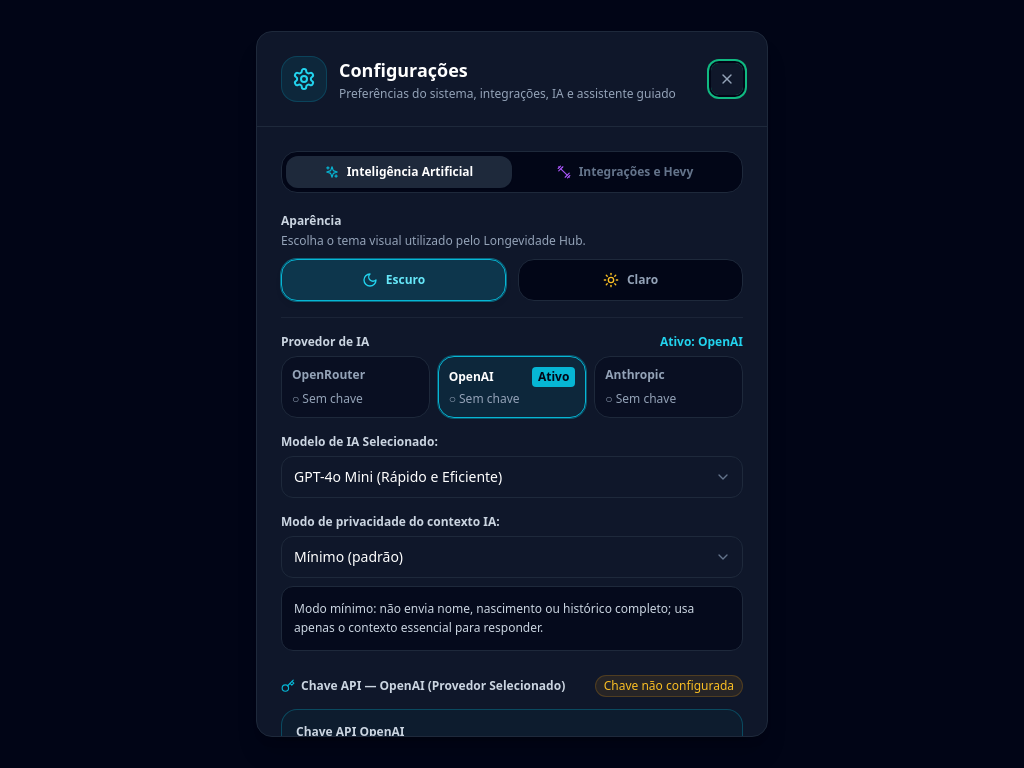
AISettingsModal privacy and key-vault settings › defaults to minimal privacy and warns when the full context mode is selected
Expected: the text "não envia nome, nascimento ou histórico completo" is shown, [294,600,694,636]
Select "Completo (opcional)" in the dropdown labelled "Modo de privacidade do contexto IA:" at (512, 557), box [281,536,743,578]
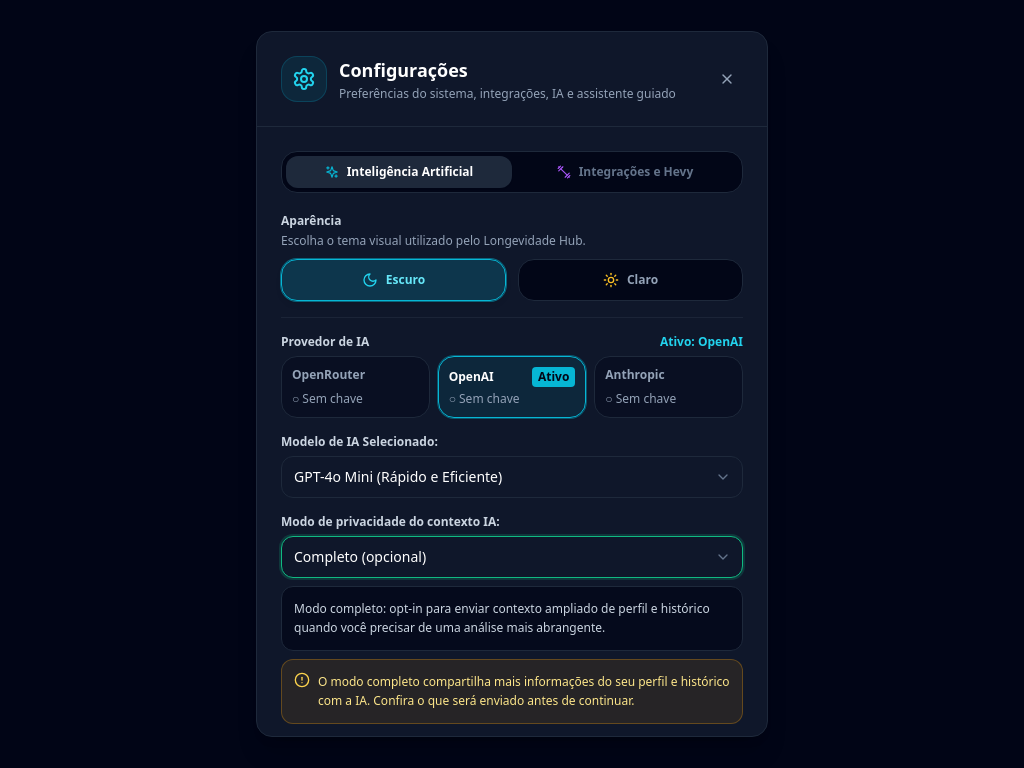
Now the message shows "modo completo", box [318,673,730,709]
Now the message shows "confira o que será enviado antes de continuar", box [318,673,730,709]
